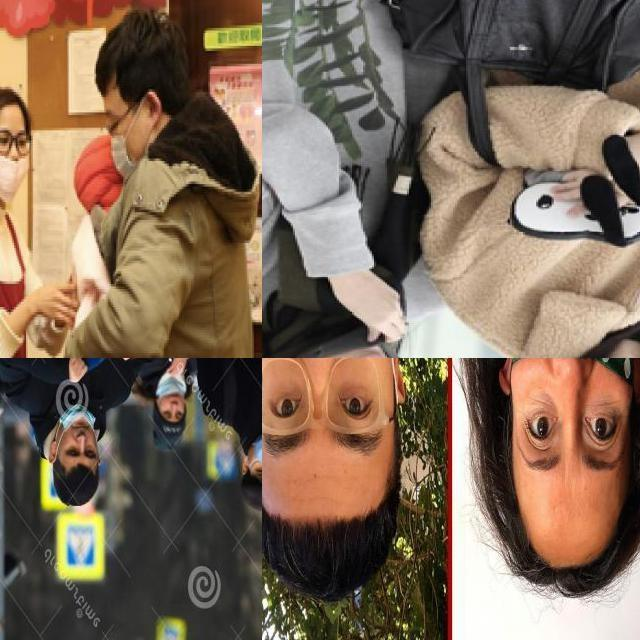hairnet: (0, 147, 30, 198), (57, 408, 95, 445), (159, 380, 184, 409)
